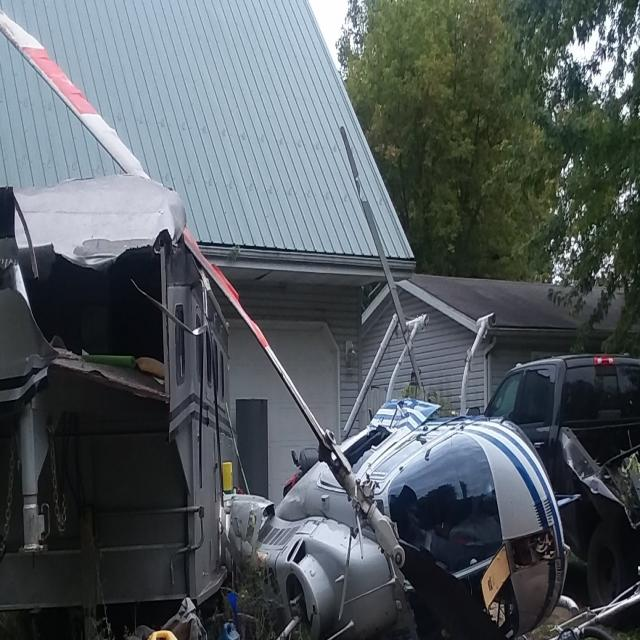helicopter: (223, 247, 592, 640)
